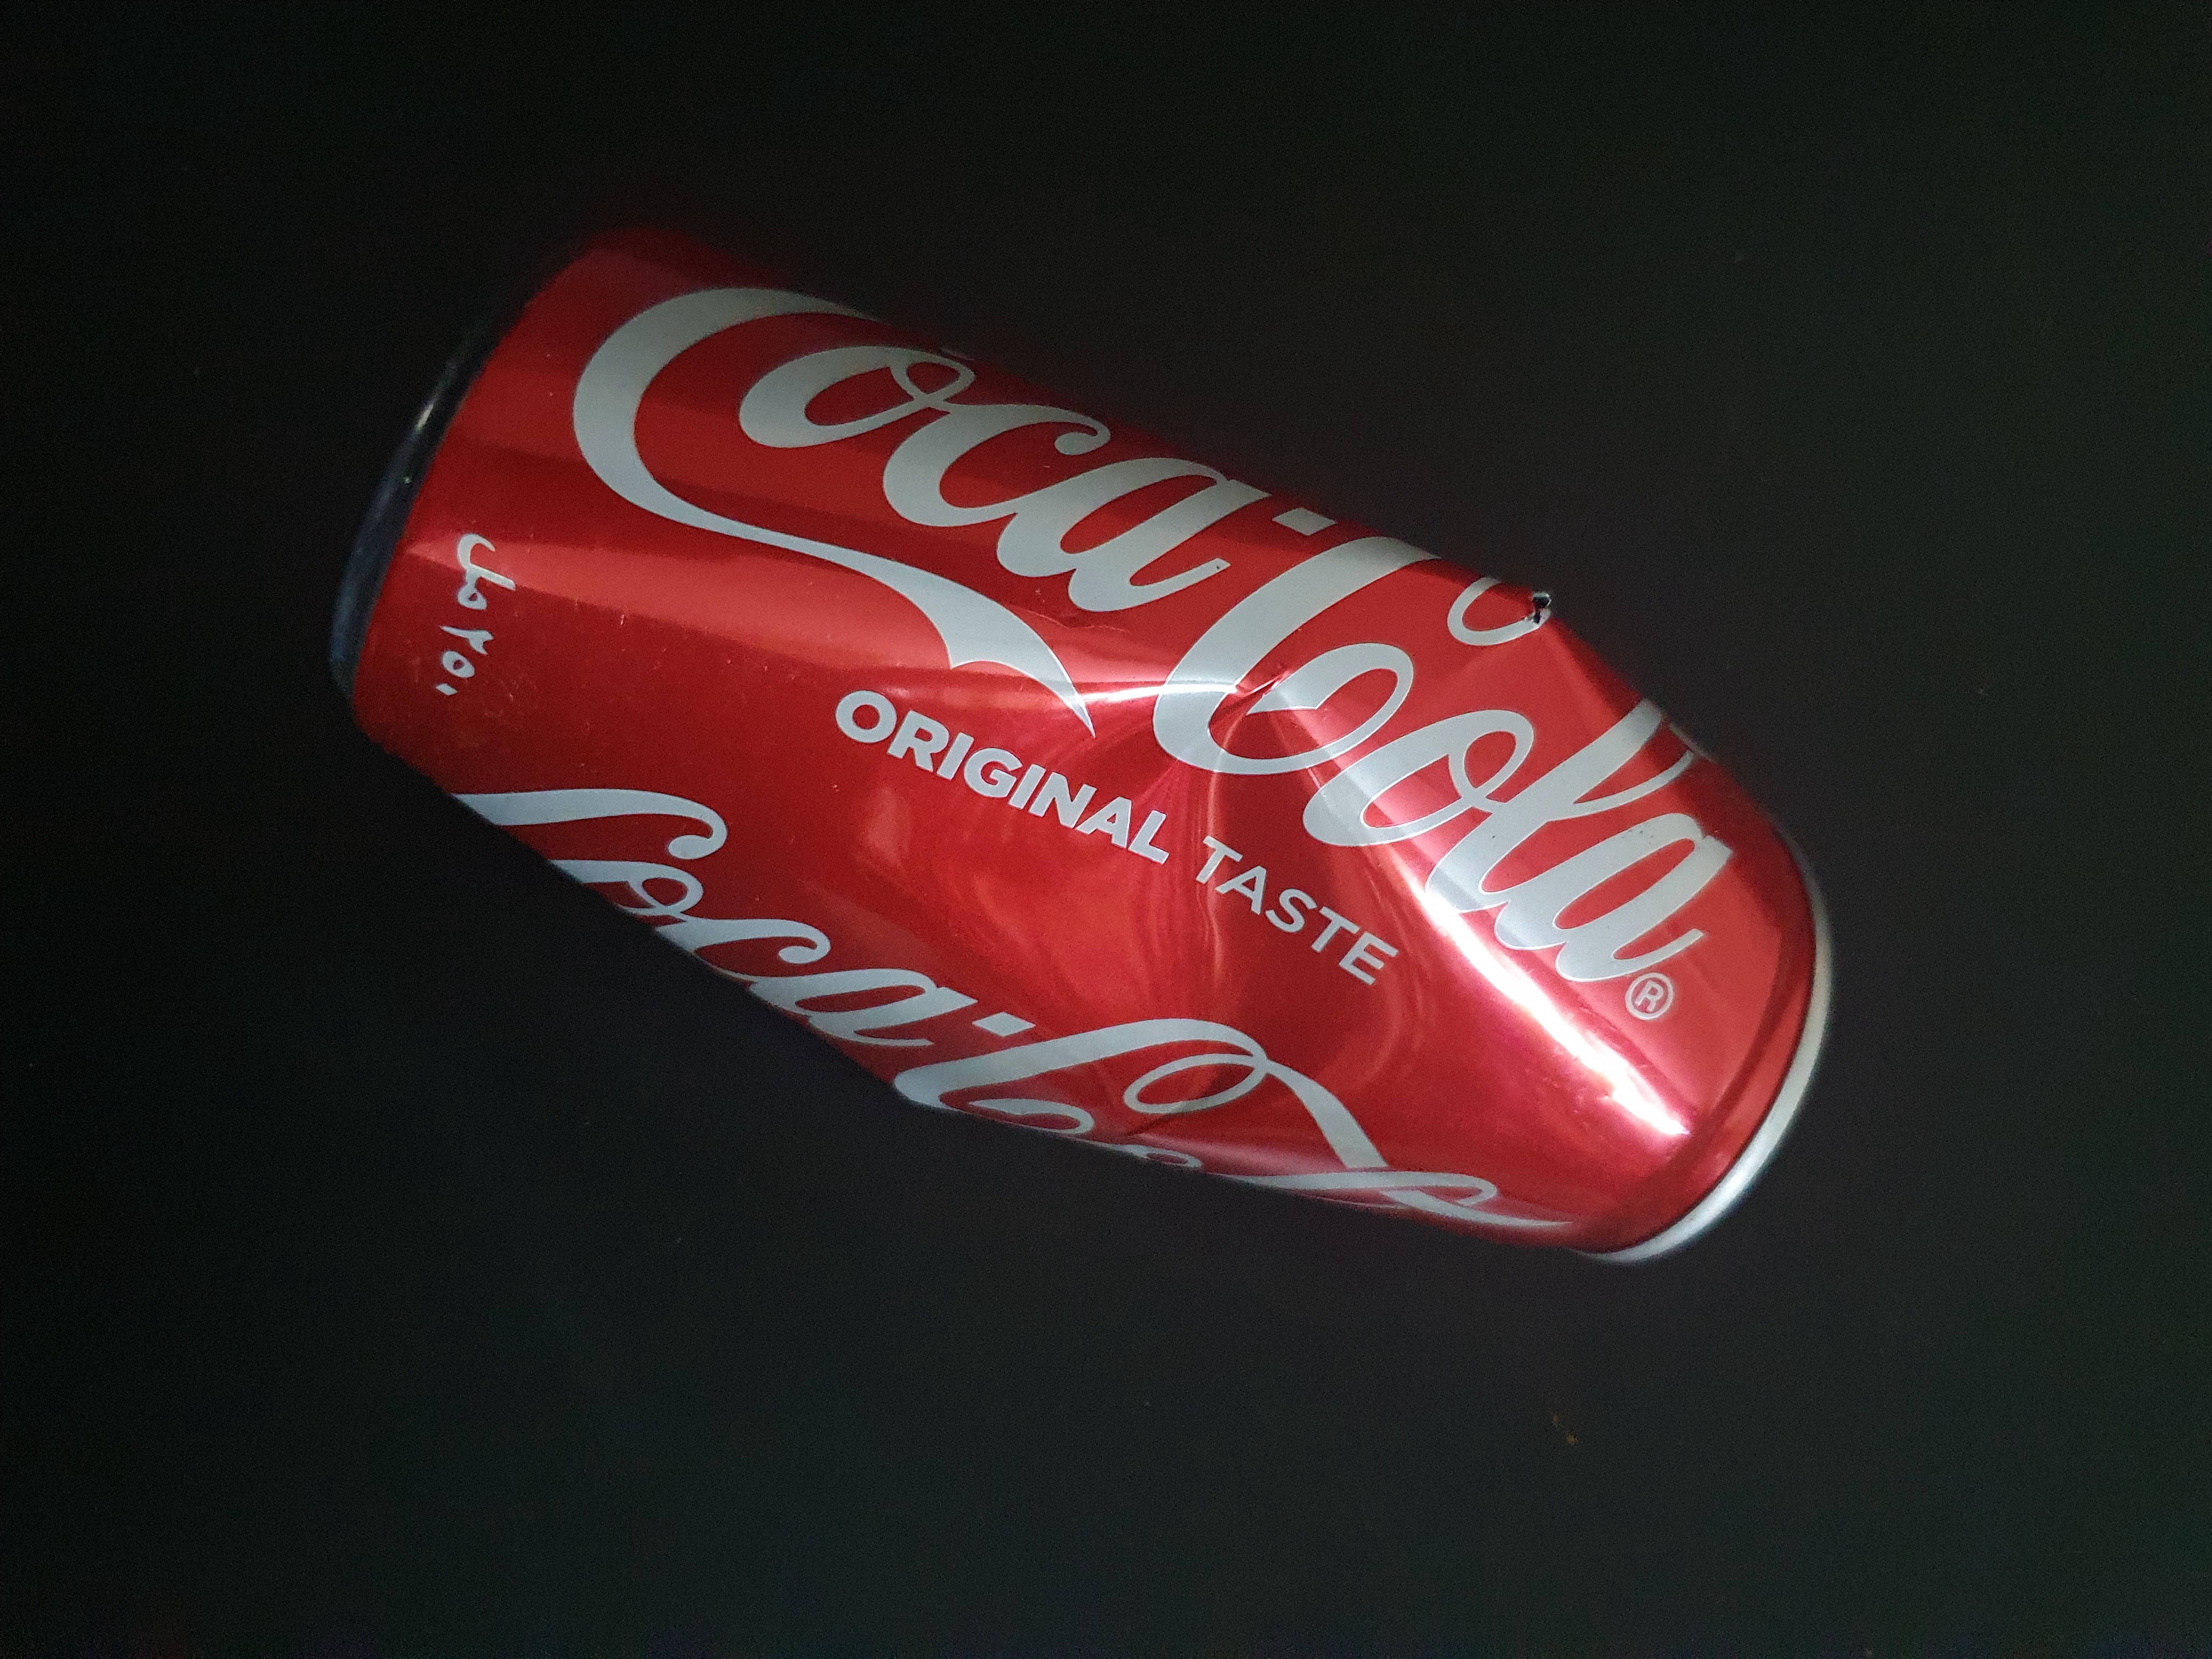metal: (254, 132, 1881, 1377)
